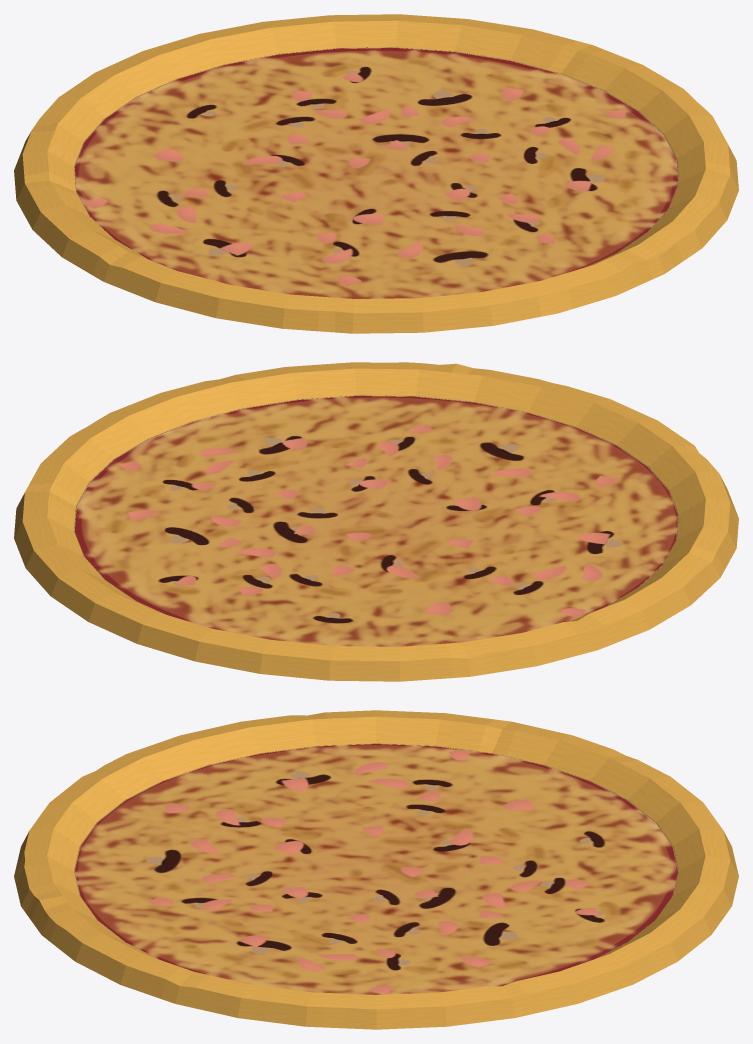
The model's file is WorldItem_PizzaHamMushroom.fbx.
3 views of the same model, one above another, from view 1: azimuth 30°, elevation 25°; view 2: azimuth 150°, elevation 25°; view 3: azimuth 270°, elevation 25° (orthographic).
Visible parts, largest first — view 1: Pizza; view 2: Pizza; view 3: Pizza.
Boxes of the visible parts, x1=… form: Pizza: x1=14, y1=14, x2=738, y2=333; Pizza: x1=14, y1=362, x2=738, y2=681; Pizza: x1=14, y1=710, x2=738, y2=1029.
Size of the model in its own units: 45.79 by 2.22 by 45.79.
